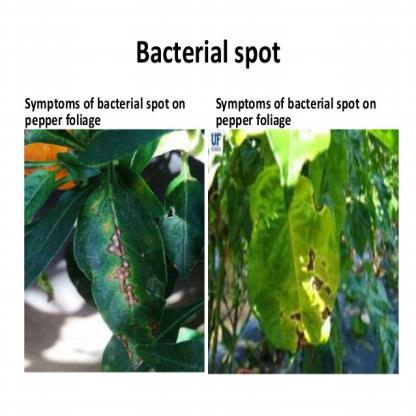Bell_pepper leaf spot: (70, 175, 170, 372), (244, 168, 342, 367)
